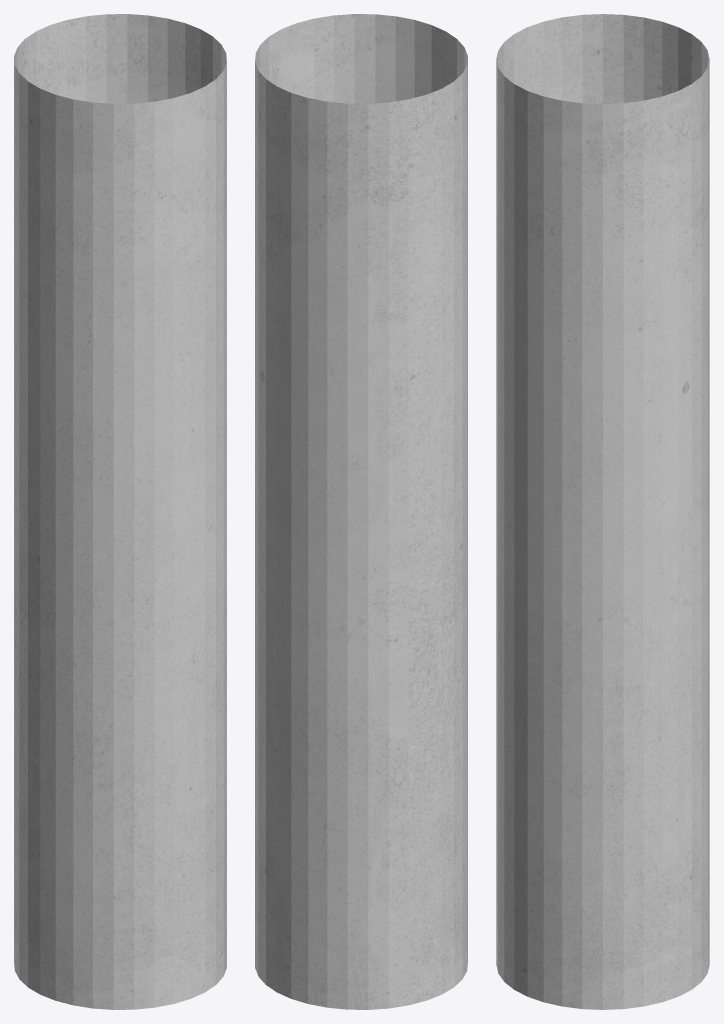
Rendered from columna.glb.
3 views of the same model, side by side, from view 1: azimuth 30°, elevation 25°; view 2: azimuth 150°, elevation 25°; view 3: azimuth 270°, elevation 25° (orthographic).
Parts seen in each view (by area): view 1: columna 1; view 2: columna 1; view 3: columna 1.
Part boxes in pixels (x1,y1,x2,y2): columna 1: [14, 14, 226, 1009]; columna 1: [255, 14, 467, 1009]; columna 1: [496, 14, 709, 1009].
Size of the model in its own units: 3.37 by 15.8 by 3.37.
Materials: 1 (1 with a texture image).
